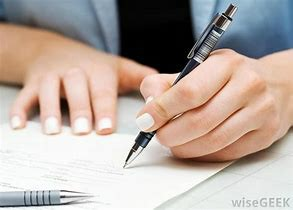pen: (125, 5, 233, 167), (1, 188, 96, 205)
